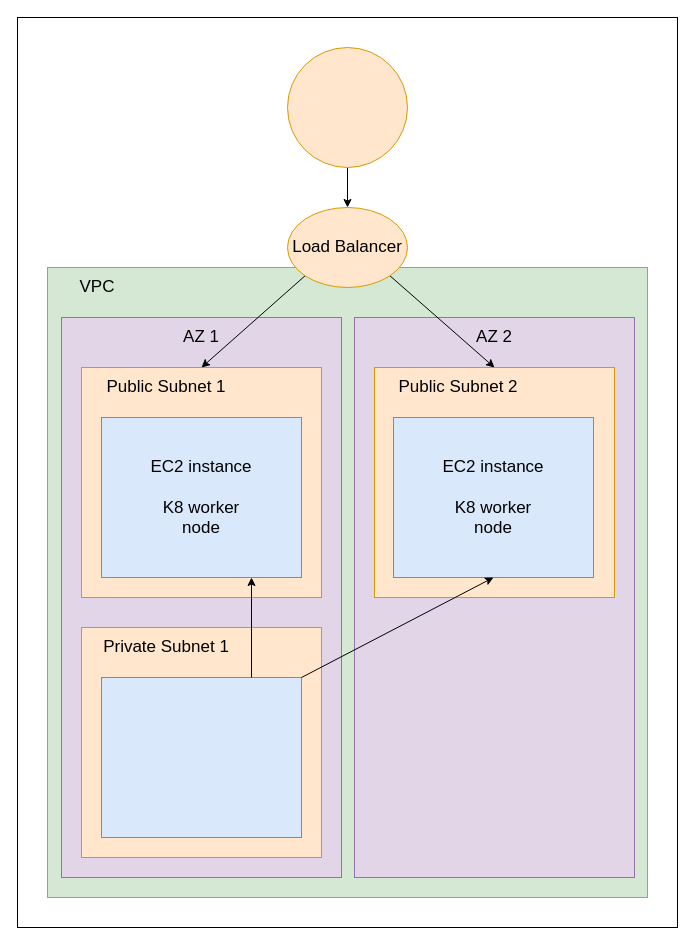
Image size: 695x945. Some labels were removed from this diagram. Each missing label, with the box of its shape:
EC2 instance K8 master node: (100, 676, 302, 838)
Internet Gateway: (286, 46, 408, 168)
